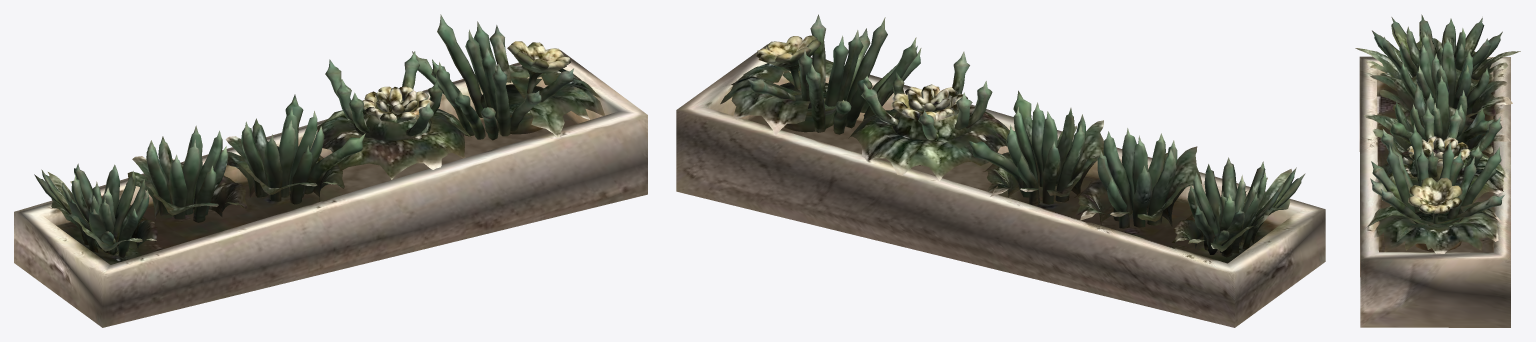
Rendered from act1-a23-5-walled-flower-bed.glb.
3 views of the same model, side by side, from view 1: azimuth 30°, elevation 25°; view 2: azimuth 150°, elevation 25°; view 3: azimuth 270°, elevation 25° (orthographic). The views are drawn at different scales.
Parts seen in each view (by area): view 1: act1-a23-5-walled-flower-bed; view 2: act1-a23-5-walled-flower-bed; view 3: act1-a23-5-walled-flower-bed.
Part boxes in pixels (x1,y1,x2,y2): act1-a23-5-walled-flower-bed: (14,14,647,327); act1-a23-5-walled-flower-bed: (676,14,1325,327); act1-a23-5-walled-flower-bed: (1355,14,1520,327).
Size of the model in its own units: 4 by 1.11 by 1.24.
Materials: 1 (1 with a texture image).
